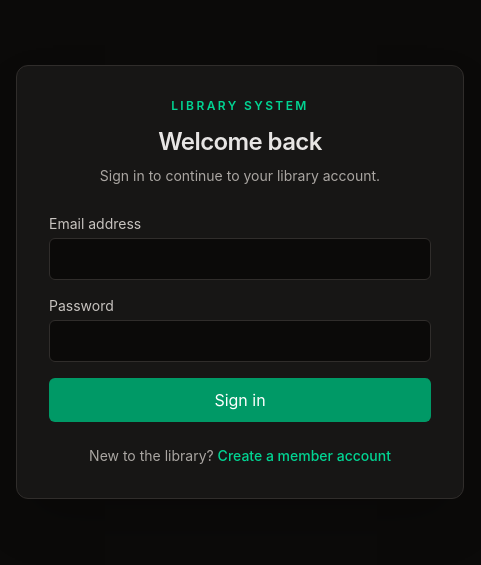
Test: login page › shows a separate message when login succeeded but /auth/me failed
Type "alex@example.com" into the field labelled "Email address". click: (240, 259)
box: [49,238,431,280]
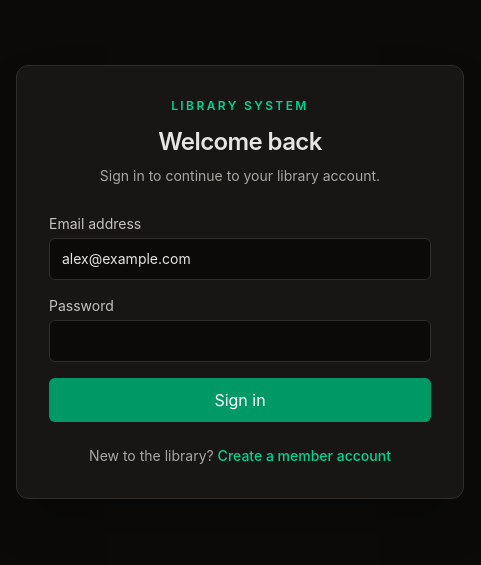
Type "a-password" into the password field labelled "Password". click: (240, 341)
box: [49,320,431,362]
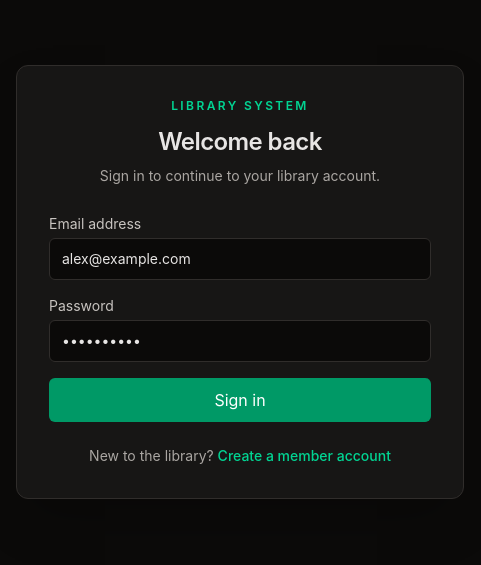
Click the button "Sign in". click: (240, 400)
box: [49,378,431,422]
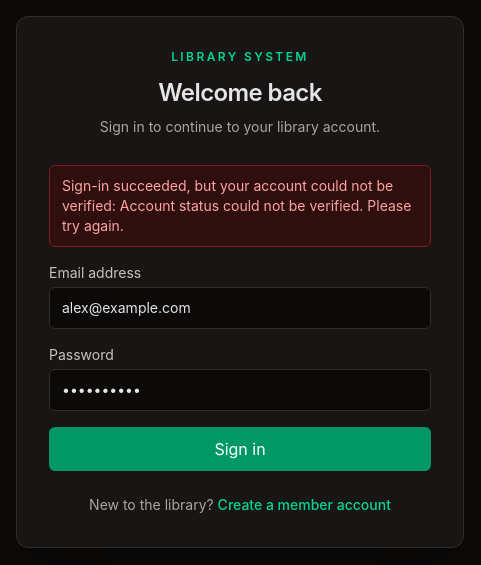
Now the message shows "Sign-in succeeded, but your account could not be verified", box [62,177,411,234]
Now the message shows "Account status could not be verified.", box [62,177,411,234]
